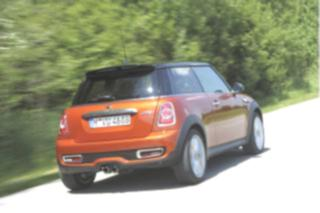mini: (102, 102, 115, 114)
